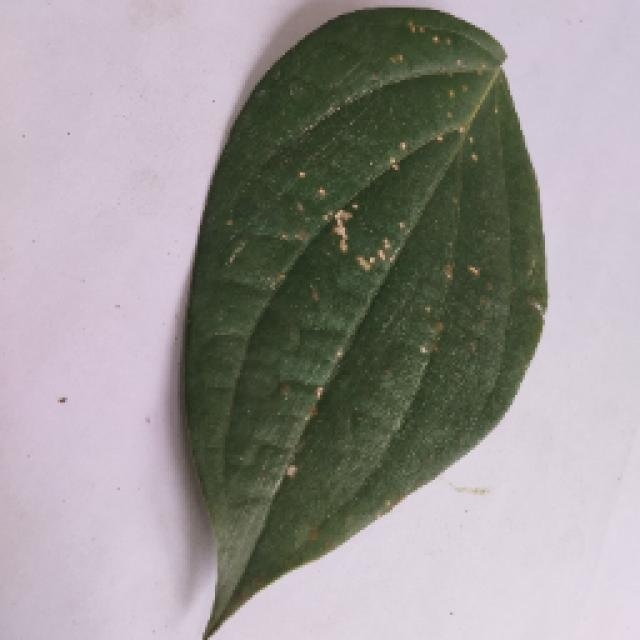pollu-disease: (182, 10, 542, 635)
